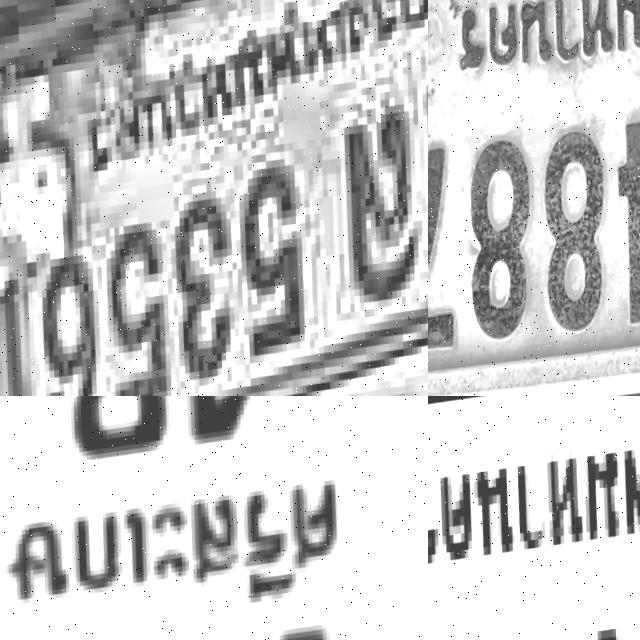license-plate: (0, 0, 428, 396), (0, 396, 428, 640), (428, 0, 640, 396), (428, 396, 640, 640)
